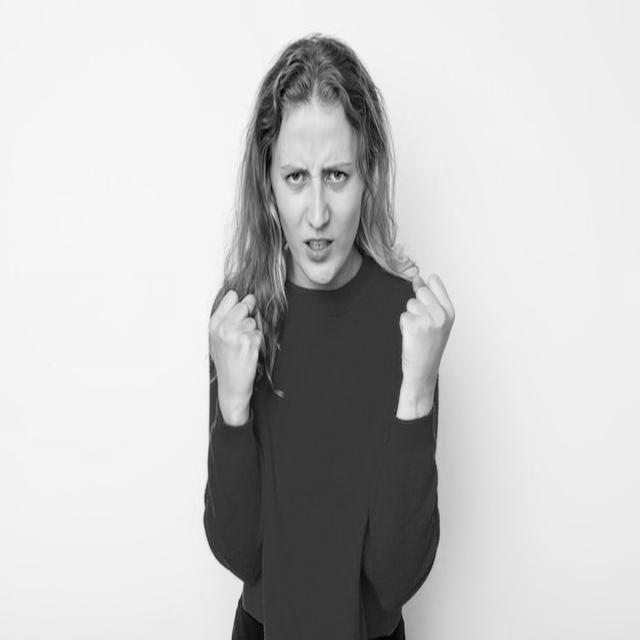Angry: (271, 103, 363, 284)
